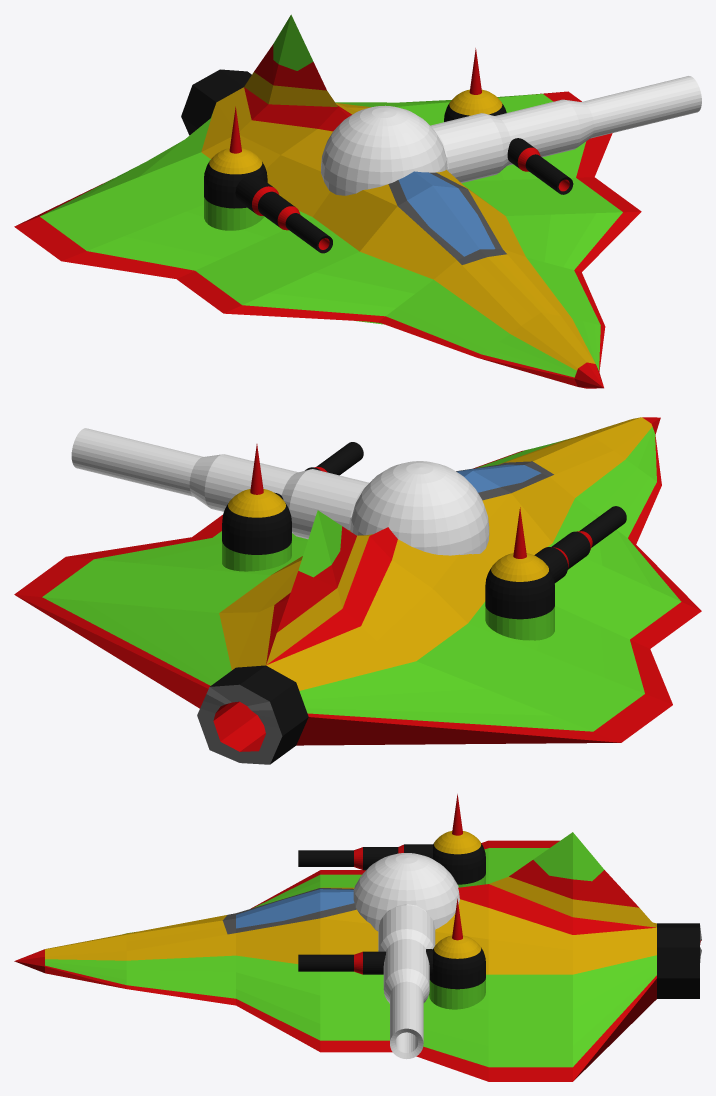
The model's file is aircraft.fbx.
3 renders of one model, top to bottom at view 1: azimuth 30°, elevation 25°; view 2: azimuth 150°, elevation 25°; view 3: azimuth 270°, elevation 25°, orthographic. The views are drawn at different scales.
Parts seen in each view (by area): view 1: Circle, Sphere; view 2: Circle, Sphere; view 3: Circle, Sphere.
Part boxes in pixels (box(x1,y1,x2,y2)): Circle: box(14, 14, 641, 388); Sphere: box(321, 76, 701, 195); Circle: box(14, 417, 701, 764); Sphere: box(71, 428, 489, 555); Circle: box(14, 794, 701, 1081); Sphere: box(353, 853, 459, 1059).
Size of the model in its own units: 1061 by 321 by 1210.
